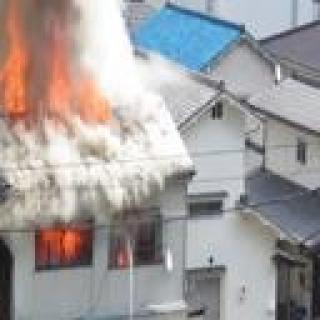fire: (0, 11, 121, 125), (37, 224, 135, 274), (0, 124, 18, 320)
